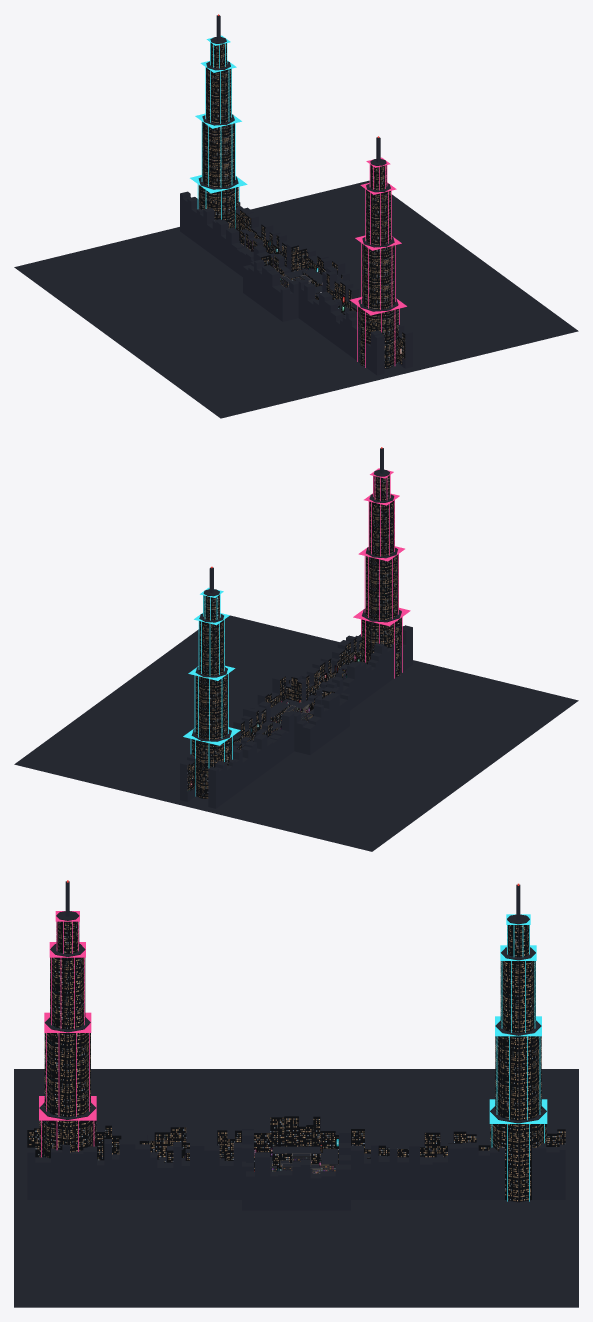
File: neon-kaido.glb
The picture shows the model from 3 angles, top to bottom: view 1: azimuth 30°, elevation 25°; view 2: azimuth 150°, elevation 25°; view 3: azimuth 270°, elevation 25°; orthographic projection. The views are drawn at different scales.
Parts seen in each view (by area): view 1: fundo-neon-fosco-fundo, torre-neon-fosco-torre, torre-neon-fosco-torre.001, fundo-neon-fosco-janelas, torre-quinas.001, torre-quinas, torre-corpo, torre-corpo.001; view 2: fundo-neon-fosco-fundo, torre-neon-fosco-torre, torre-neon-fosco-torre.001, fundo-neon-fosco-janelas, torre-quinas.001, torre-quinas, torre-corpo, torre-corpo.001; view 3: fundo-neon-fosco-fundo, torre-neon-fosco-torre.001, torre-neon-fosco-torre, fundo-neon-fosco-janelas, torre-quinas.001, torre-quinas, torre-corpo.001, torre-corpo.
Part boxes in pixels (x1,y1,x2,y2): fundo-neon-fosco-fundo: (14,180,578,418); torre-neon-fosco-torre: (358,159,398,368); torre-neon-fosco-torre.001: (198,37,238,228); fundo-neon-fosco-janelas: (234,209,405,364); torre-quinas.001: (190,35,247,228); torre-quinas: (350,157,406,367); torre-corpo: (358,137,398,364); torre-corpo.001: (199,15,238,189); fundo-neon-fosco-fundo: (14,615,578,851); torre-neon-fosco-torre: (361,469,401,676); torre-neon-fosco-torre.001: (191,589,231,798); fundo-neon-fosco-janelas: (187,637,370,790); torre-quinas.001: (183,587,240,796); torre-quinas: (353,468,410,678); torre-corpo: (362,448,401,653); torre-corpo.001: (192,567,231,741); fundo-neon-fosco-fundo: (14,1069,578,1307); torre-neon-fosco-torre.001: (490,915,546,1202); torre-neon-fosco-torre: (39,911,96,1158); fundo-neon-fosco-janelas: (27,1116,565,1168); torre-quinas.001: (489,914,547,1201); torre-quinas: (39,911,96,1157); torre-corpo.001: (490,884,546,1201); torre-corpo: (39,881,95,1144).
Bounding box in the file's own units: 840 × 503 × 840.
38 materials, 23 textured.
